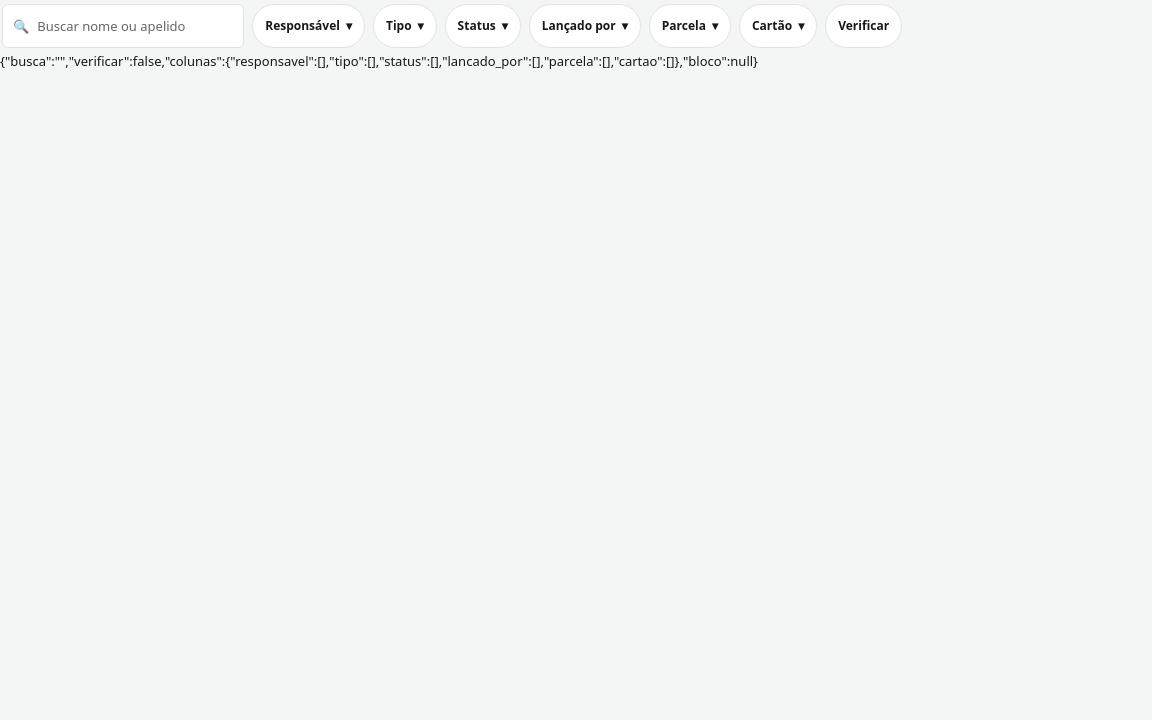
Test: BarraFiltros › tocar fora fecha sem aplicar
The width and height of the screenshot is (1152, 720).
What coordinates should you click on to do the following:
click the button "Cartão ▾"
I would click on:
 (778, 26)
Its box is [739,4,817,48].
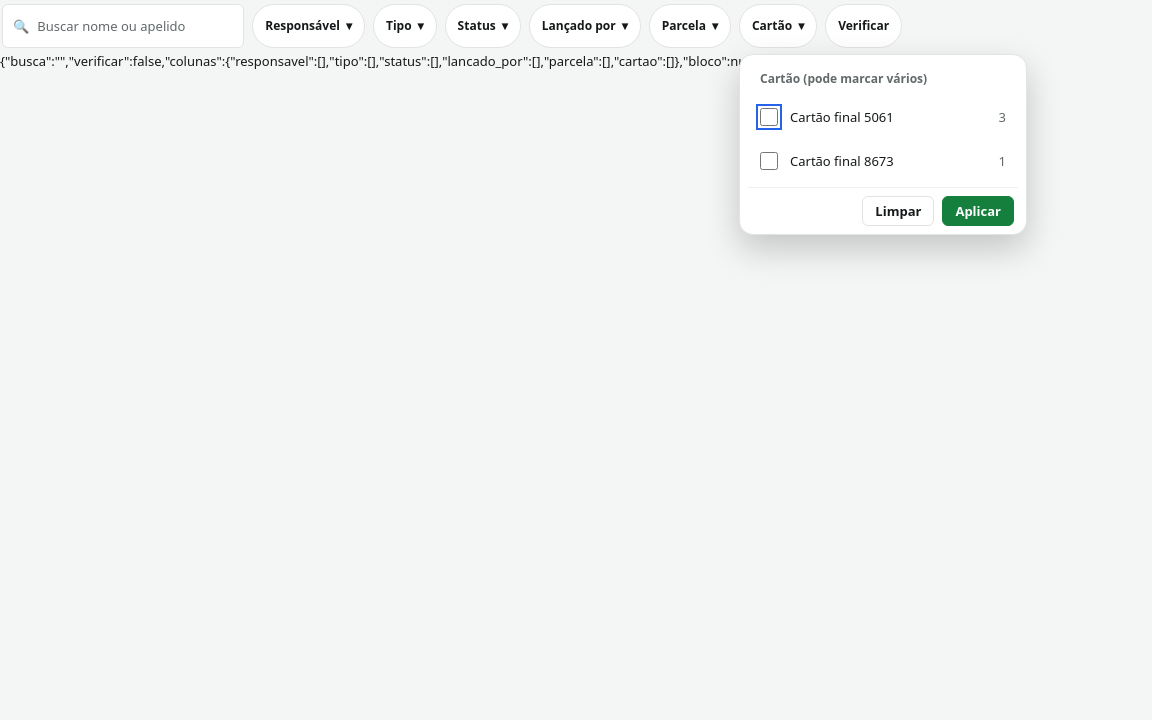
What coordinates should you click on to do the following:
click the checkbox named "Cartão final 8673, 1 lançamento"
I would click on:
 (769, 161)
Its box is [760,152,778,170].
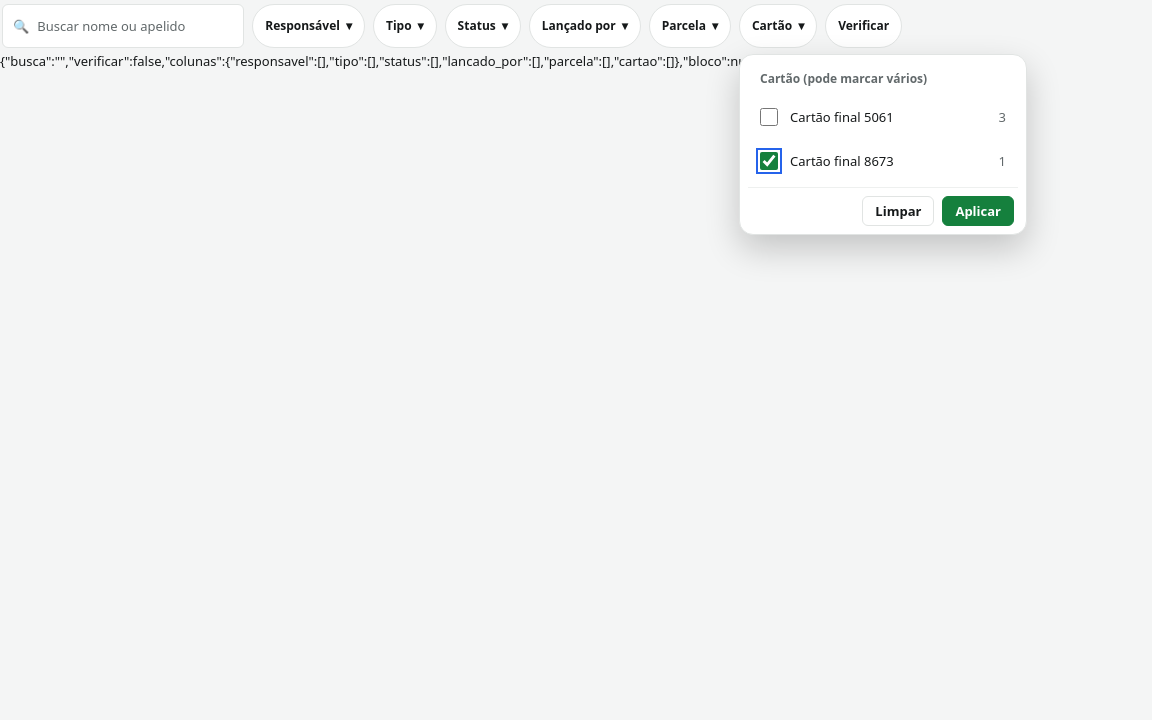
What coordinates should you click on to do the following:
click the element that starts with "Responsável"
I would click on:
 (576, 360)
Its box is [0,0,1151,719].
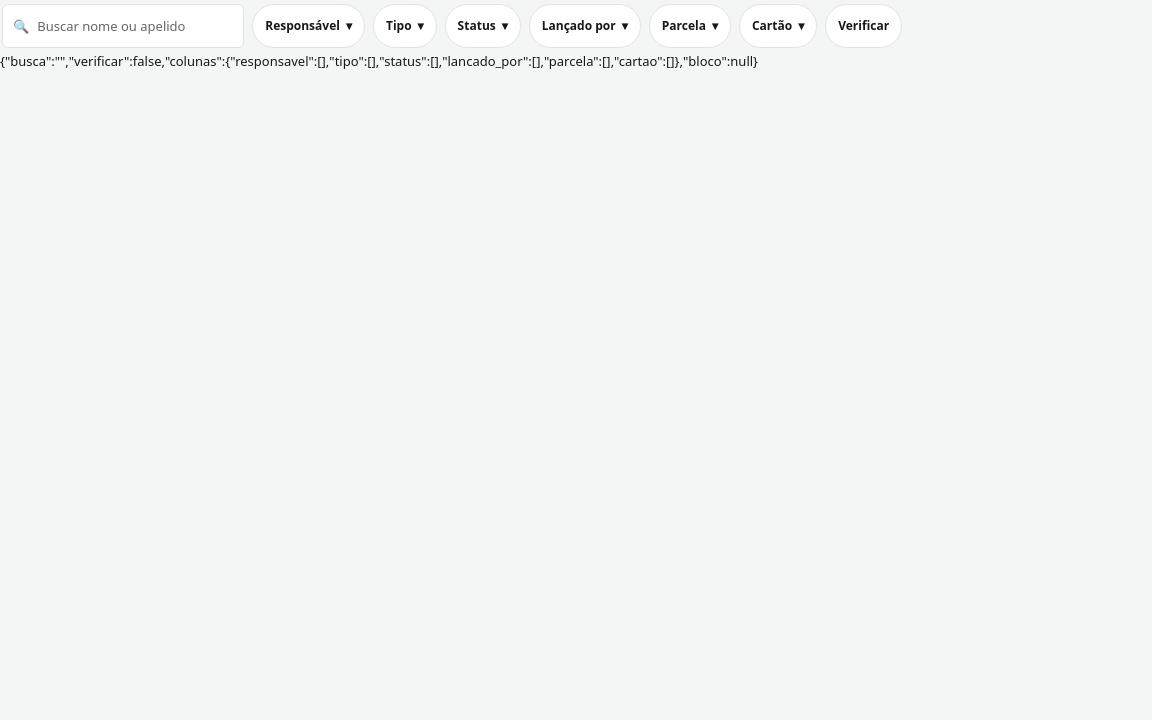
Result: the dialog is gone
